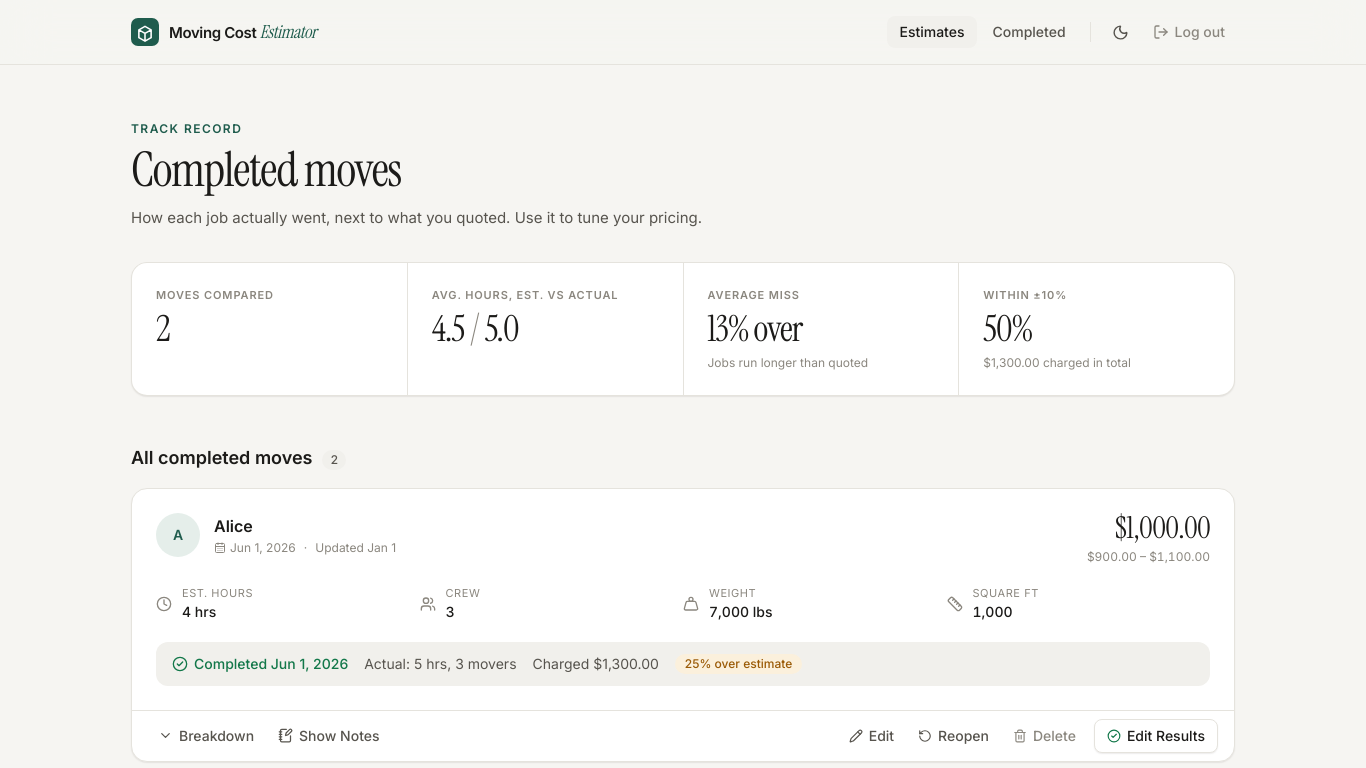
Test: CompletedMoves page › reopening a move removes it from the completed list
The image size is (1366, 768).
Expected: the heading "Alice" is shown, left=214, top=516, right=253, bottom=536
Step 1. Click the button "Reopen" → (954, 736), box left=908, top=720, right=999, bottom=752
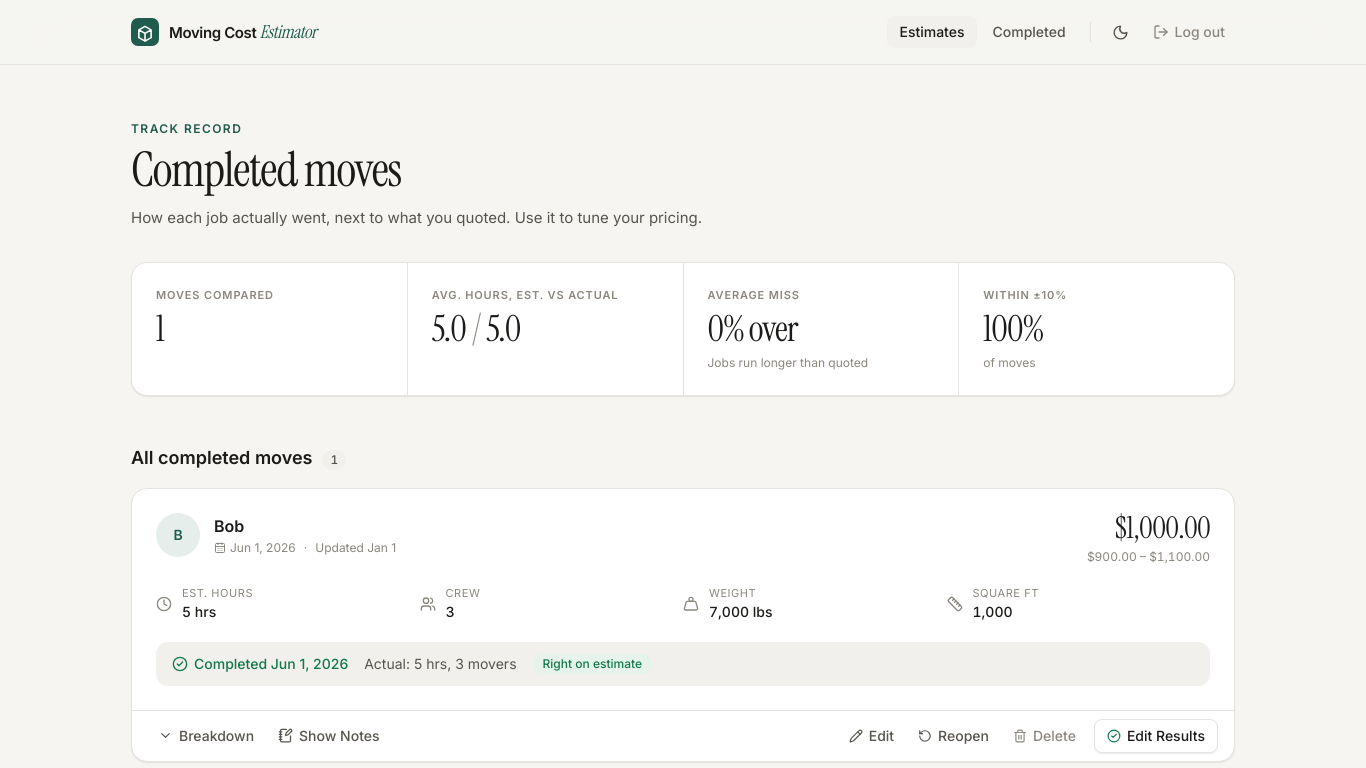
Expected: the heading "Alice" is gone
